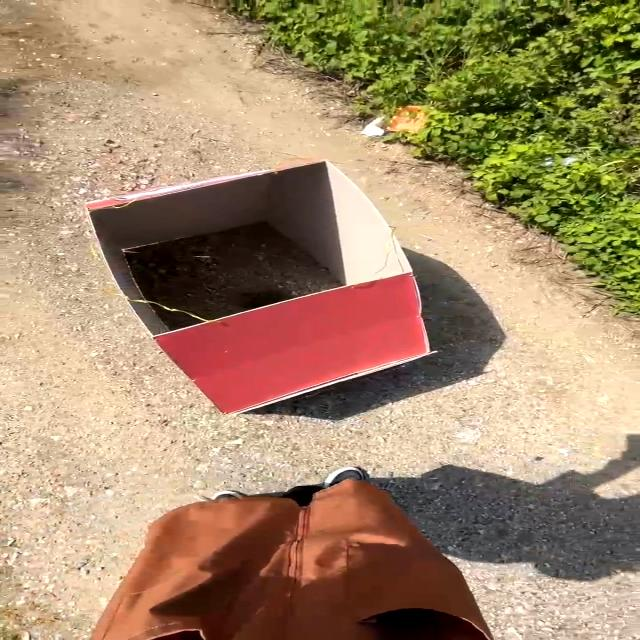red_car: (41, 150, 480, 429)
